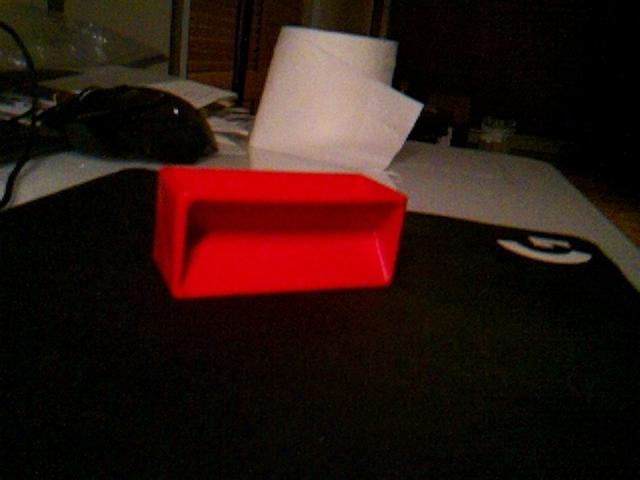red: (152, 163, 409, 301)
